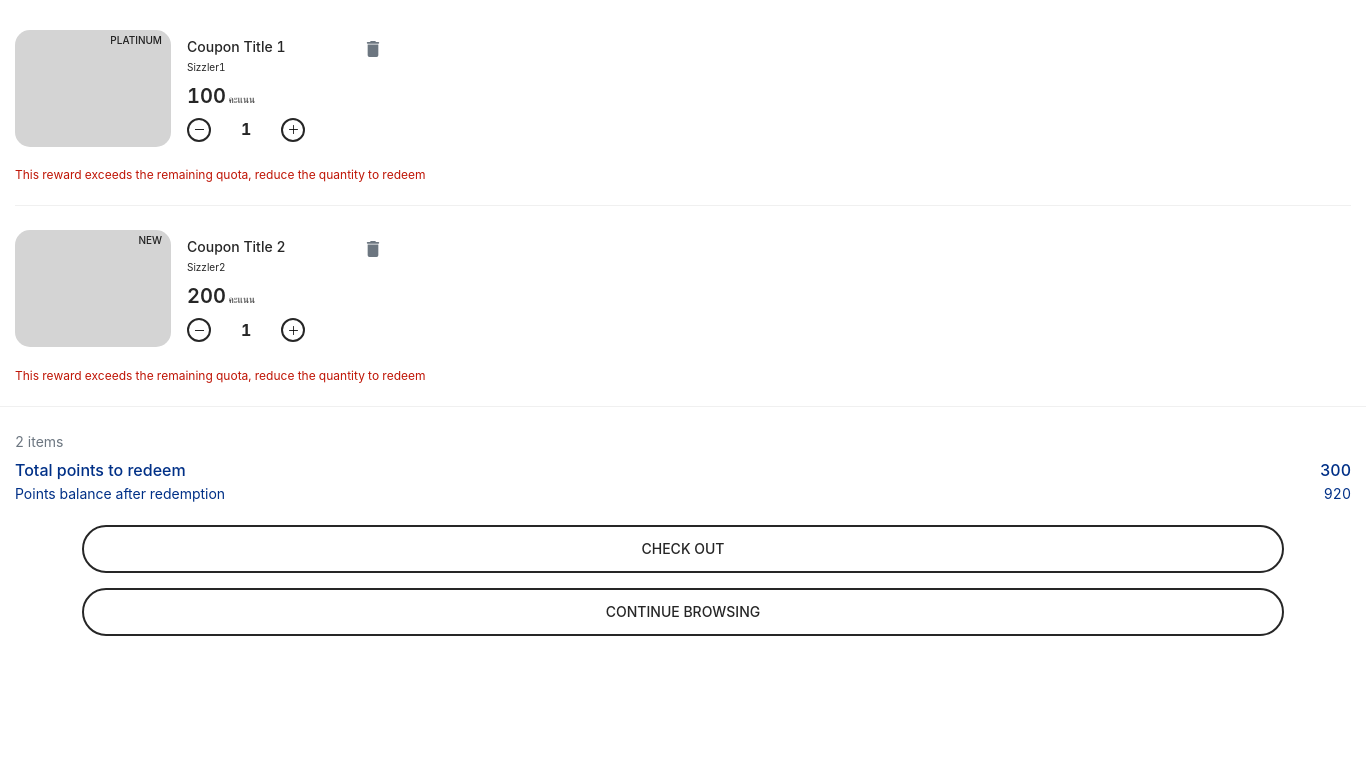
Test: NonEmptyCartView › should render AcuvueCouponErrorModal when cart[cartCouponId] > remainingQuantity
Click the button "CHECK OUT".
click(683, 549)  # box [82,525,1284,573]
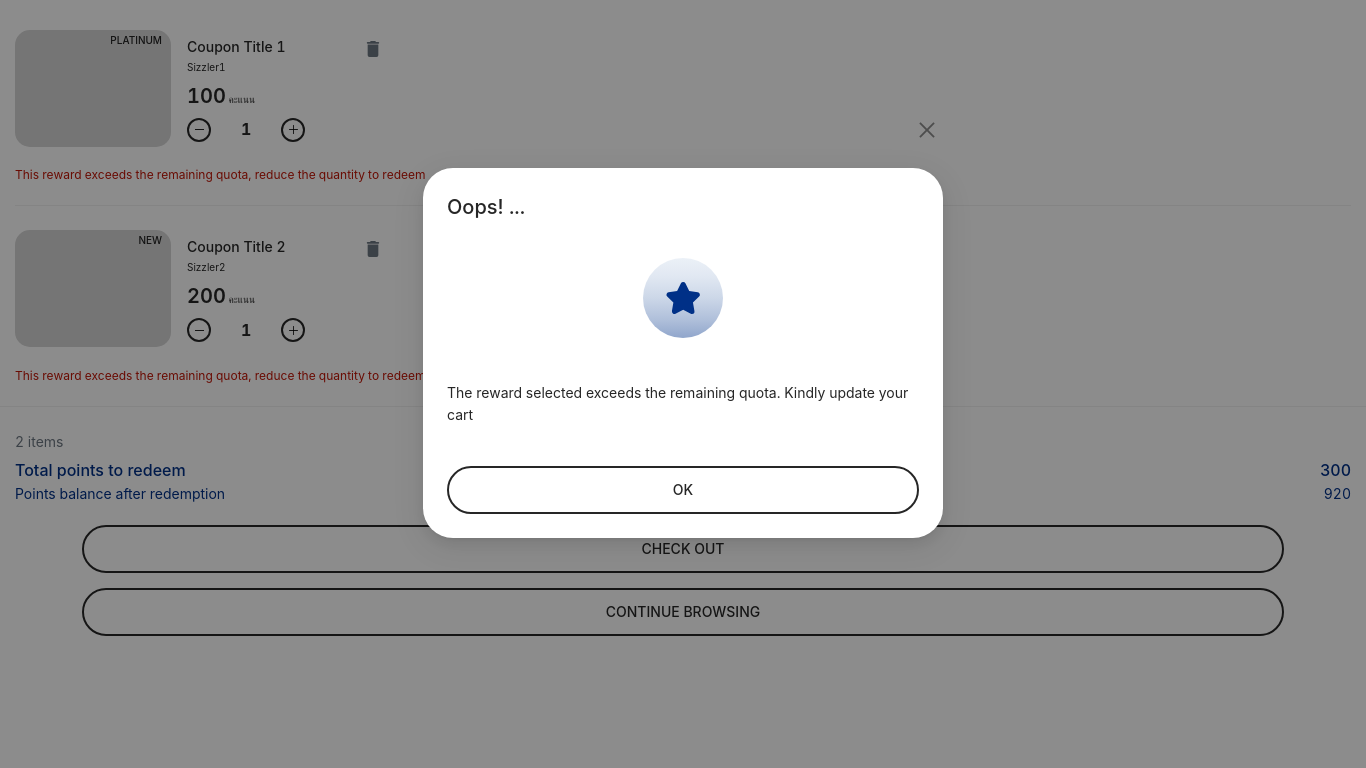
Now the dialog is shown, box [423,168,943,538]
Now the heading "Oops! ..." is shown, box [447,195,525,219]
Now the text "The reward selected exceeds the remaining quota. Kindly update your cart" is shown, box [447,384,908,422]
